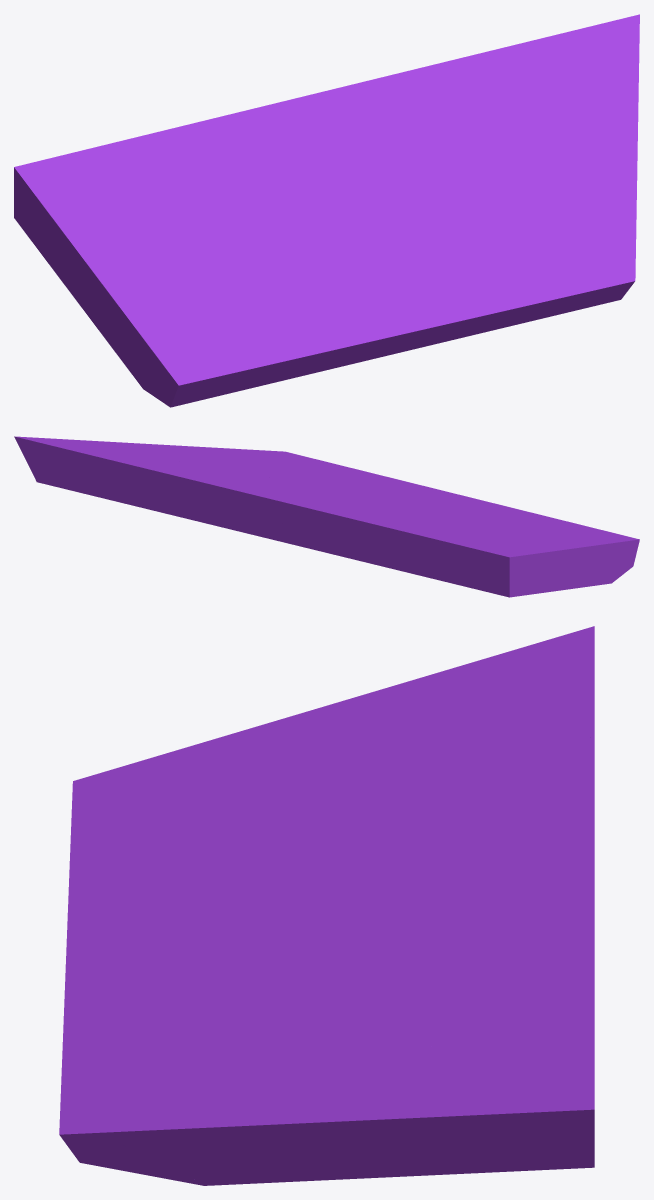
File: Window_136_3_chunks.fbx
The picture shows the model from 3 angles, top to bottom: view 1: azimuth 30°, elevation 25°; view 2: azimuth 150°, elevation 25°; view 3: azimuth 270°, elevation 25°; orthographic projection. The views are drawn at different scales.
Parts seen in each view (by area): view 1: Window_136_3_12, Window_136_3_10, Window_136_3_3, Window_136_3_8, Window_136_3_17, Window_136_3_0, Window_136_3_13, Window_136_3_2, Window_136_3_14, Window_136_3_7, Window_136_3_6, Window_136_3_16 (+6 smaller); view 2: Window_136_3_17, Window_136_3_13, Window_136_3_12, Window_136_3_11, Window_136_3_14, Window_136_3_8, Window_136_3_3, Window_136_3_10, Window_136_3_2, Window_136_3_0, Window_136_3_7, Window_136_3_16 (+4 smaller); view 3: Window_136_3_10, Window_136_3_12, Window_136_3_17, Window_136_3_8, Window_136_3_3, Window_136_3_13, Window_136_3_2, Window_136_3_14, Window_136_3_0, Window_136_3_16, Window_136_3_7, Window_136_3_6 (+4 smaller).
Part boxes in pixels (x1=…): Window_136_3_12: x1=14, y1=132, x2=255, y2=340; Window_136_3_10: x1=447, y1=132, x2=637, y2=261; Window_136_3_3: x1=112, y1=248, x2=299, y2=390; Window_136_3_8: x1=287, y1=88, x2=456, y2=251; Window_136_3_17: x1=446, y1=14, x2=639, y2=119; Window_136_3_0: x1=243, y1=293, x2=470, y2=379; Window_136_3_13: x1=156, y1=100, x2=345, y2=216; Window_136_3_2: x1=258, y1=218, x2=454, y2=294; Window_136_3_14: x1=337, y1=62, x2=518, y2=160; Window_136_3_7: x1=467, y1=253, x2=635, y2=311; Window_136_3_6: x1=420, y1=265, x2=549, y2=347; Window_136_3_16: x1=506, y1=111, x2=638, y2=152; Window_136_3_17: x1=14, y1=436, x2=185, y2=501; Window_136_3_13: x1=273, y1=500, x2=422, y2=567; Window_136_3_12: x1=397, y1=516, x2=593, y2=571; Window_136_3_11: x1=387, y1=543, x2=596, y2=597; Window_136_3_14: x1=160, y1=464, x2=260, y2=533; Window_136_3_8: x1=249, y1=477, x2=378, y2=539; Window_136_3_3: x1=458, y1=513, x2=639, y2=585; Window_136_3_10: x1=135, y1=443, x2=357, y2=483; Window_136_3_2: x1=368, y1=485, x2=482, y2=517; Window_136_3_0: x1=396, y1=483, x2=588, y2=526; Window_136_3_7: x1=266, y1=450, x2=360, y2=480; Window_136_3_16: x1=113, y1=442, x2=225, y2=467; Window_136_3_10: x1=98, y1=979, x2=389, y2=1185; Window_136_3_12: x1=285, y1=626, x2=594, y2=823; Window_136_3_17: x1=400, y1=959, x2=594, y2=1173; Window_136_3_8: x1=211, y1=837, x2=594, y2=980; Window_136_3_3: x1=71, y1=718, x2=311, y2=867; Window_136_3_13: x1=331, y1=735, x2=594, y2=896; Window_136_3_2: x1=124, y1=829, x2=328, y2=991; Window_136_3_14: x1=381, y1=876, x2=594, y2=1023; Window_136_3_0: x1=64, y1=831, x2=195, y2=1007; Window_136_3_16: x1=358, y1=1018, x2=457, y2=1178; Window_136_3_7: x1=59, y1=998, x2=195, y2=1146; Window_136_3_6: x1=62, y1=977, x2=180, y2=1063.
Bounding box in the file's own units: 1294 × 252 × 605.
